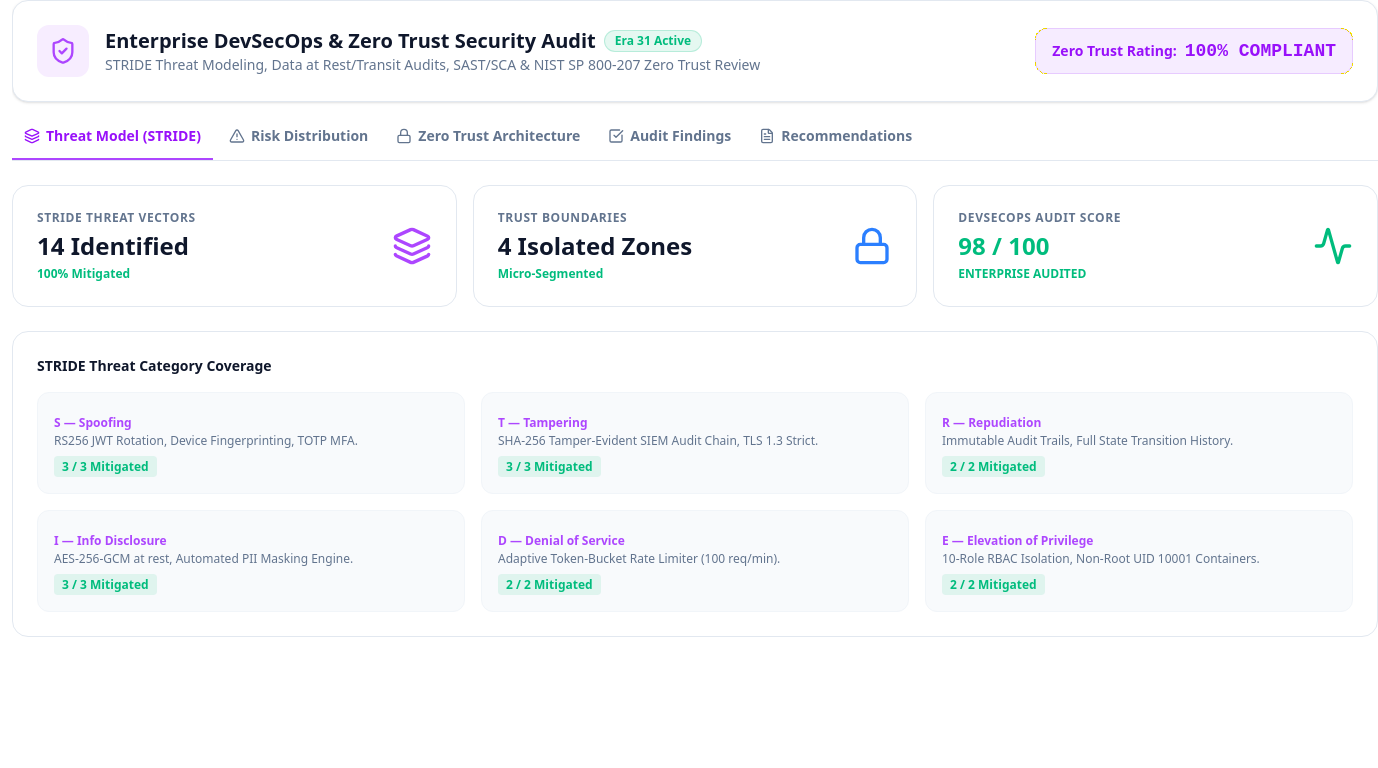
Test: SecurityAuditReviewDashboard › clicking Audit Findings tab shows finding entries
Step 1. Click the button "Audit Findings" → (670, 143), box [596, 126, 743, 160]
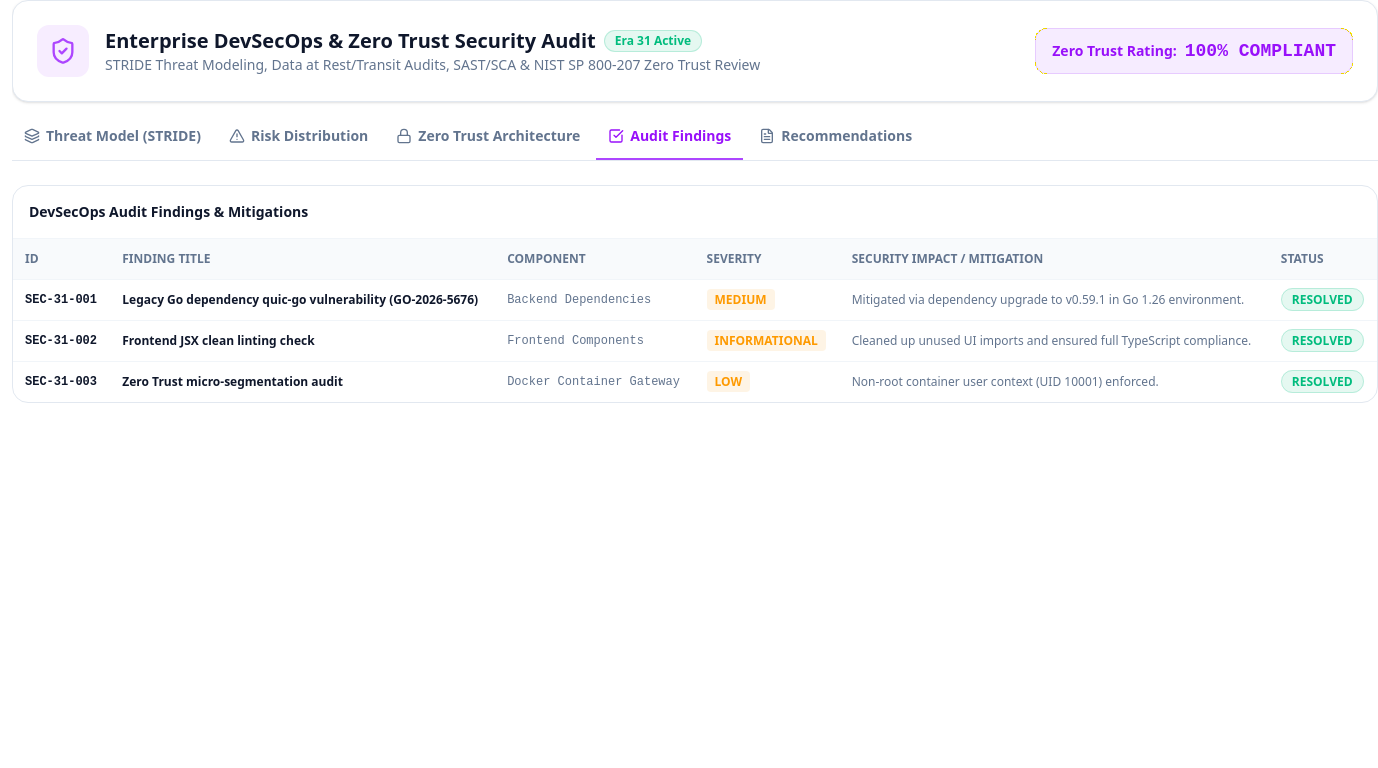
Check: the heading "DevSecOps Audit Findings & Mitigations" is shown, box [29, 202, 308, 222]
Check: the text "Legacy Go dependency quic-go vulnerability (GO-2026-5676)" is shown, box [110, 280, 495, 320]
